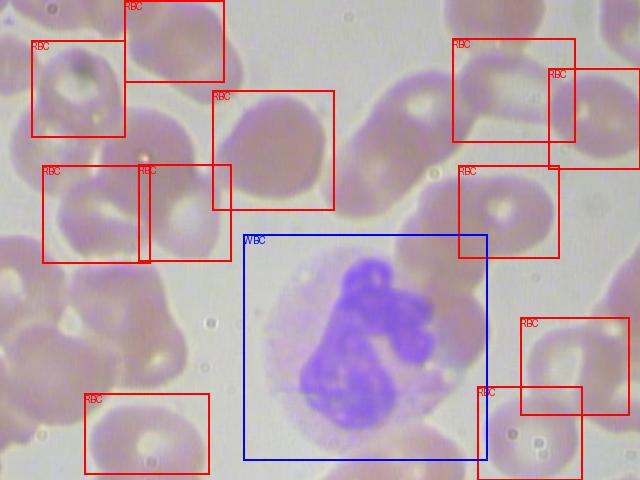RBC: (212, 90, 334, 210), (452, 38, 575, 142), (520, 317, 629, 415), (42, 165, 150, 263), (84, 393, 209, 474), (477, 386, 582, 480), (458, 165, 559, 258), (548, 68, 640, 169), (31, 40, 125, 137), (138, 164, 231, 261), (124, 0, 224, 82)
WBC: (243, 234, 487, 460)
